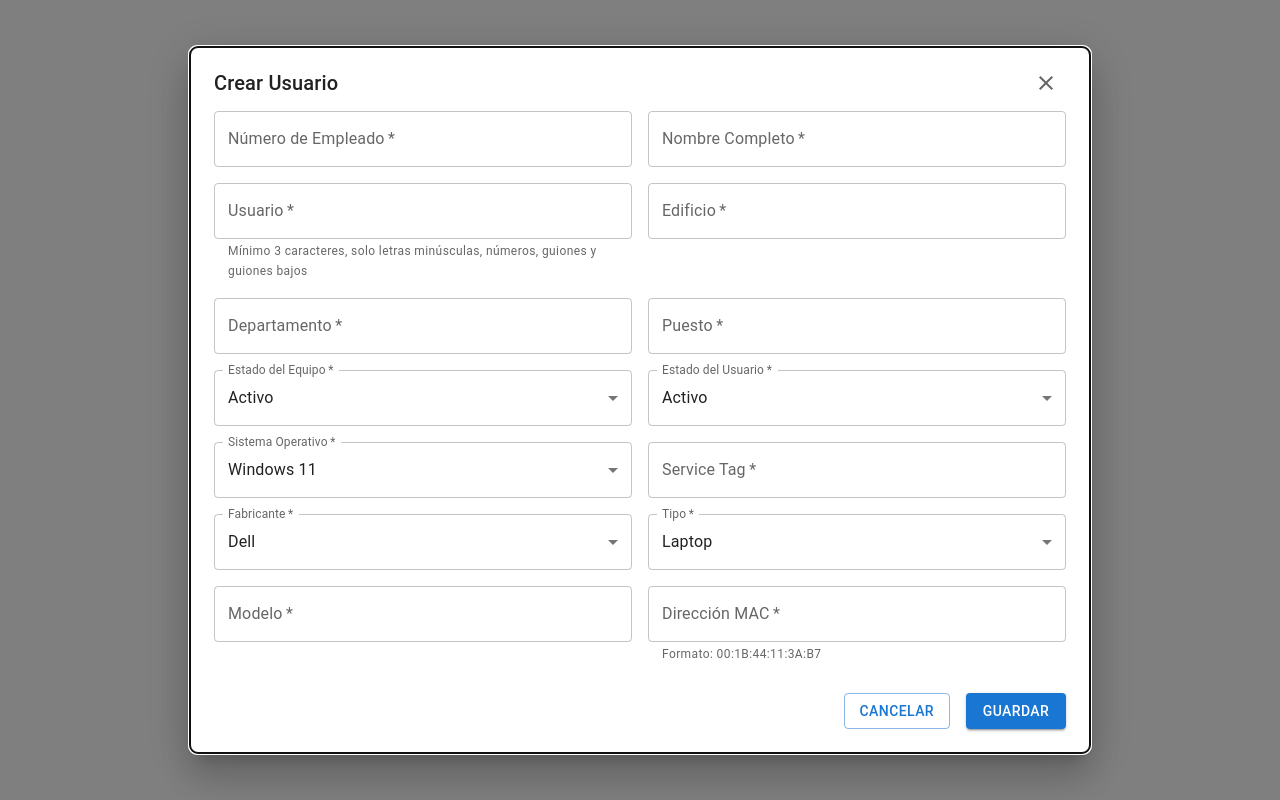
Test: UserModal › Envío del Formulario › debe mostrar error general cuando la validación falla
Click the button "Guardar" at (1016, 711), box [966, 693, 1066, 729]
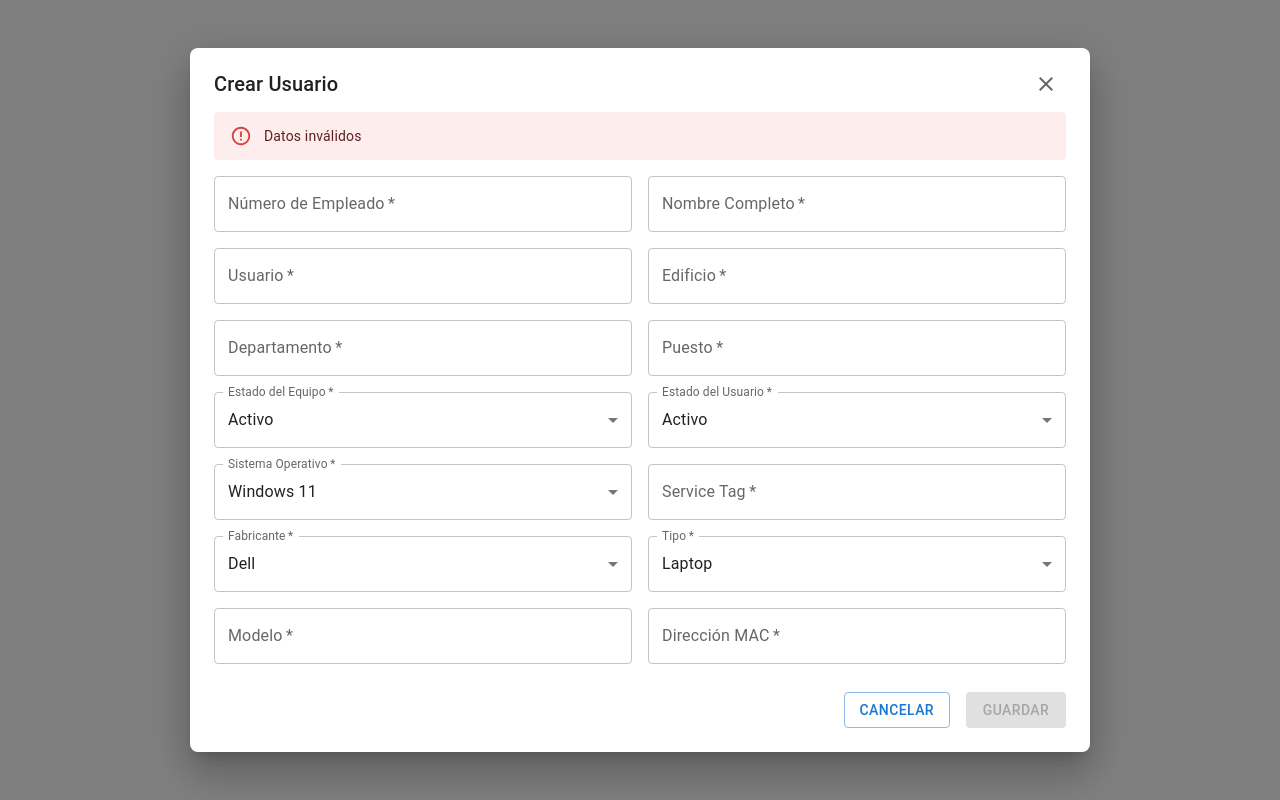
Result: the text "Datos inválidos" is shown at [264, 128, 362, 144]
